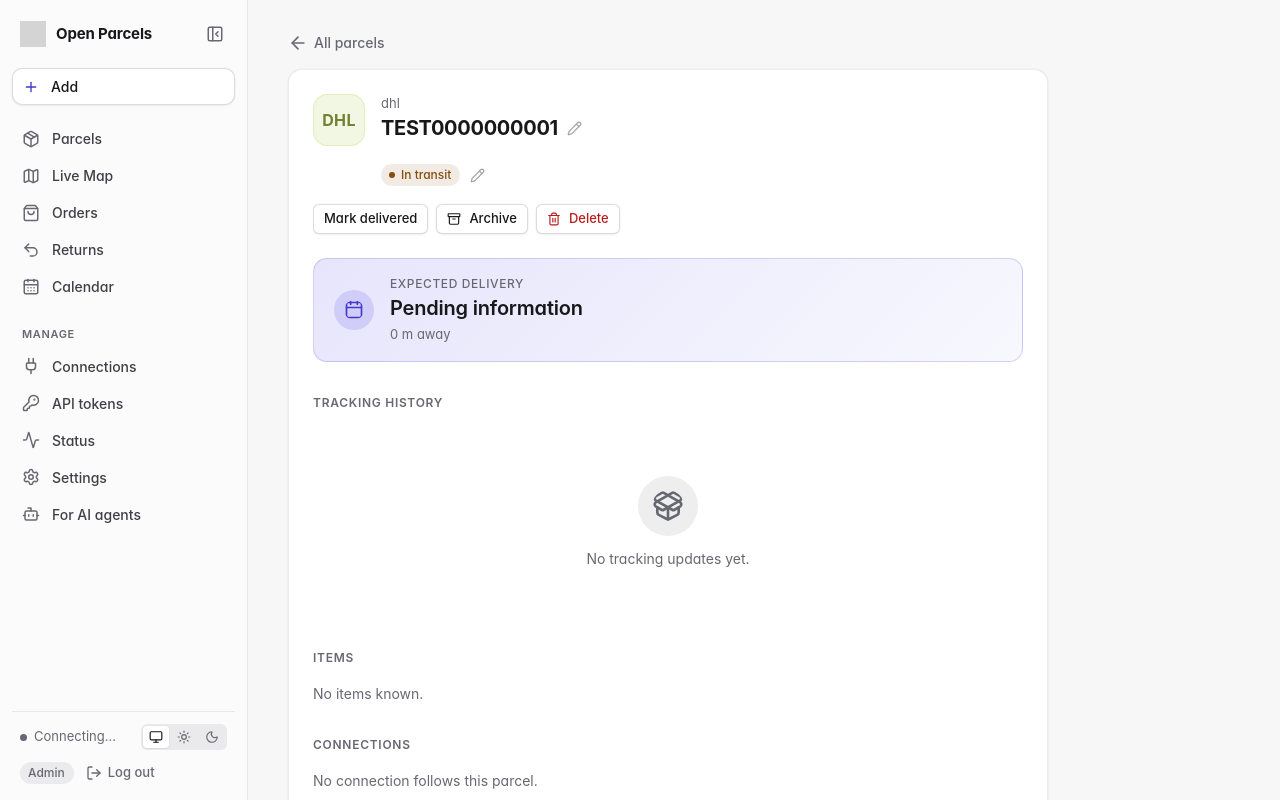
Test: an ended session and a deleted parcel › does not ask for a deleted parcel's detail again
What coordinates should you click on to do the following:
click the button "Delete"
I would click on:
 (578, 219)
Its box is x1=536 y1=204 x2=620 y2=234.
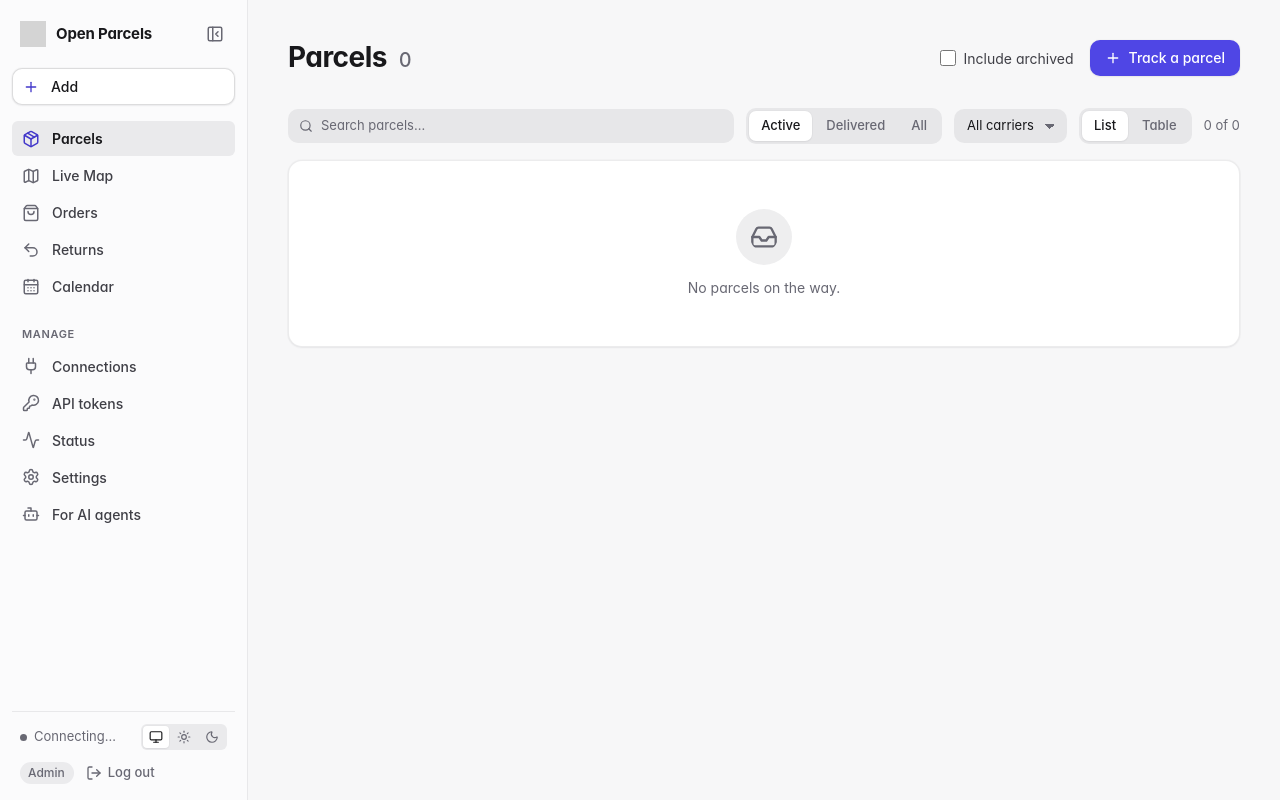
Result: the text "No parcels on the way." is shown at x1=688 y1=276 x2=840 y2=298
